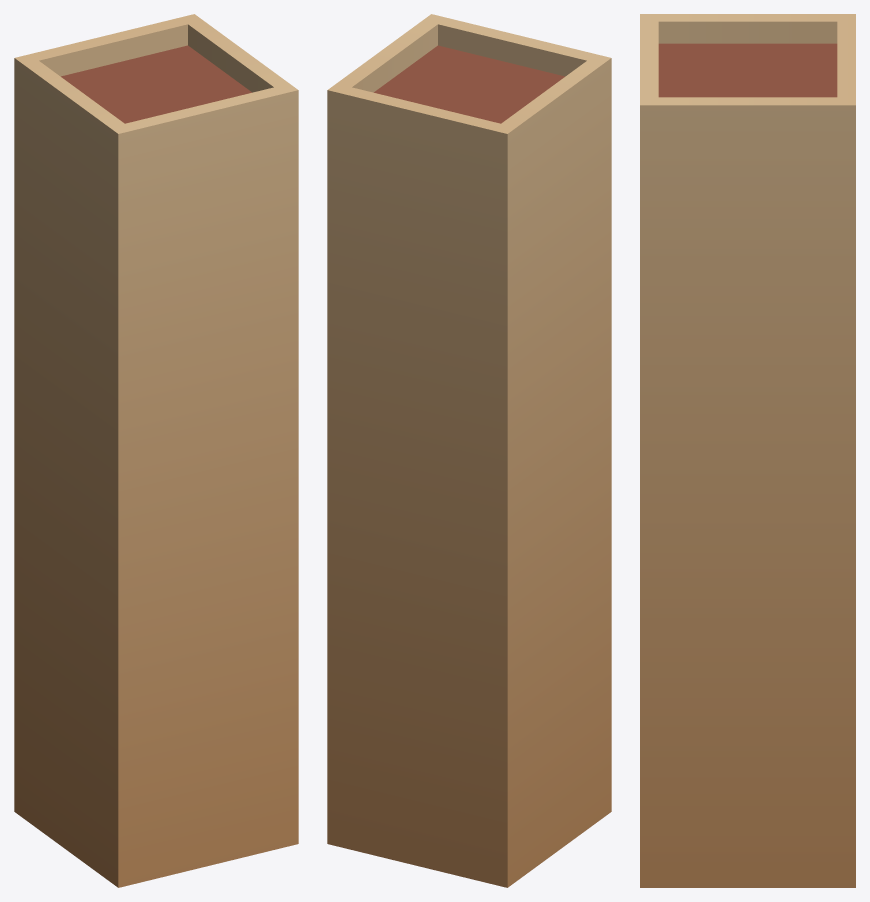
The model's file is LargeHouse03.fbx.
3 views of the same model, side by side, from view 1: azimuth 30°, elevation 25°; view 2: azimuth 150°, elevation 25°; view 3: azimuth 270°, elevation 25° (orthographic). The views are drawn at different scales.
Parts seen in each view (by area): view 1: LargeHouse03; view 2: LargeHouse03; view 3: LargeHouse03.
Boxes of the visible parts, left/top/right/bottom form: LargeHouse03: left=14, top=14, right=298, bottom=887; LargeHouse03: left=327, top=14, right=611, bottom=887; LargeHouse03: left=640, top=14, right=855, bottom=887.
Size of the model in its own units: 1 by 4 by 1.
1 material, 1 textured.
